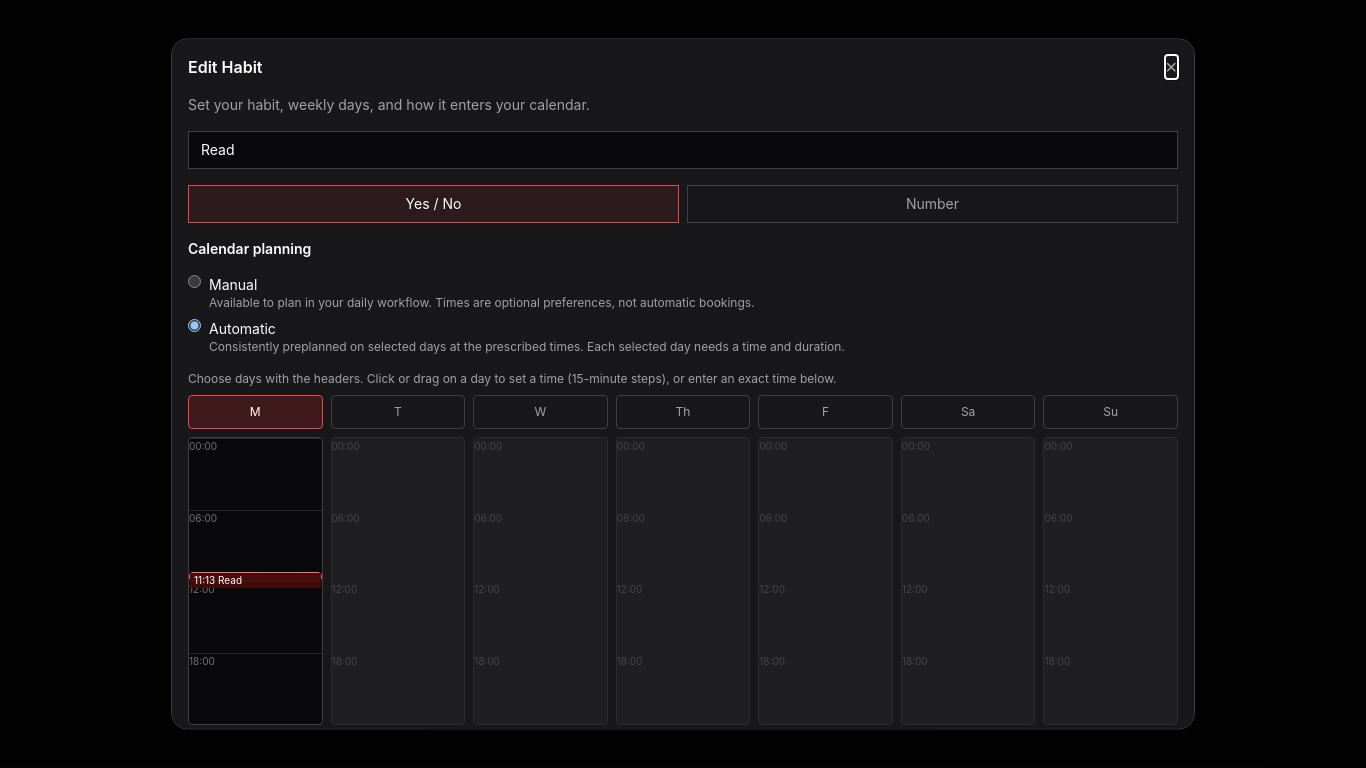
it: Habit editor weekly calendar › preserves chosen times and duration when deselecting and reselecting a day
This screenshot has width=1366, height=768.
Click the button named "Monday" at {"x": 255, "y": 412}, box top-left (188, 395), bottom-right (323, 429)
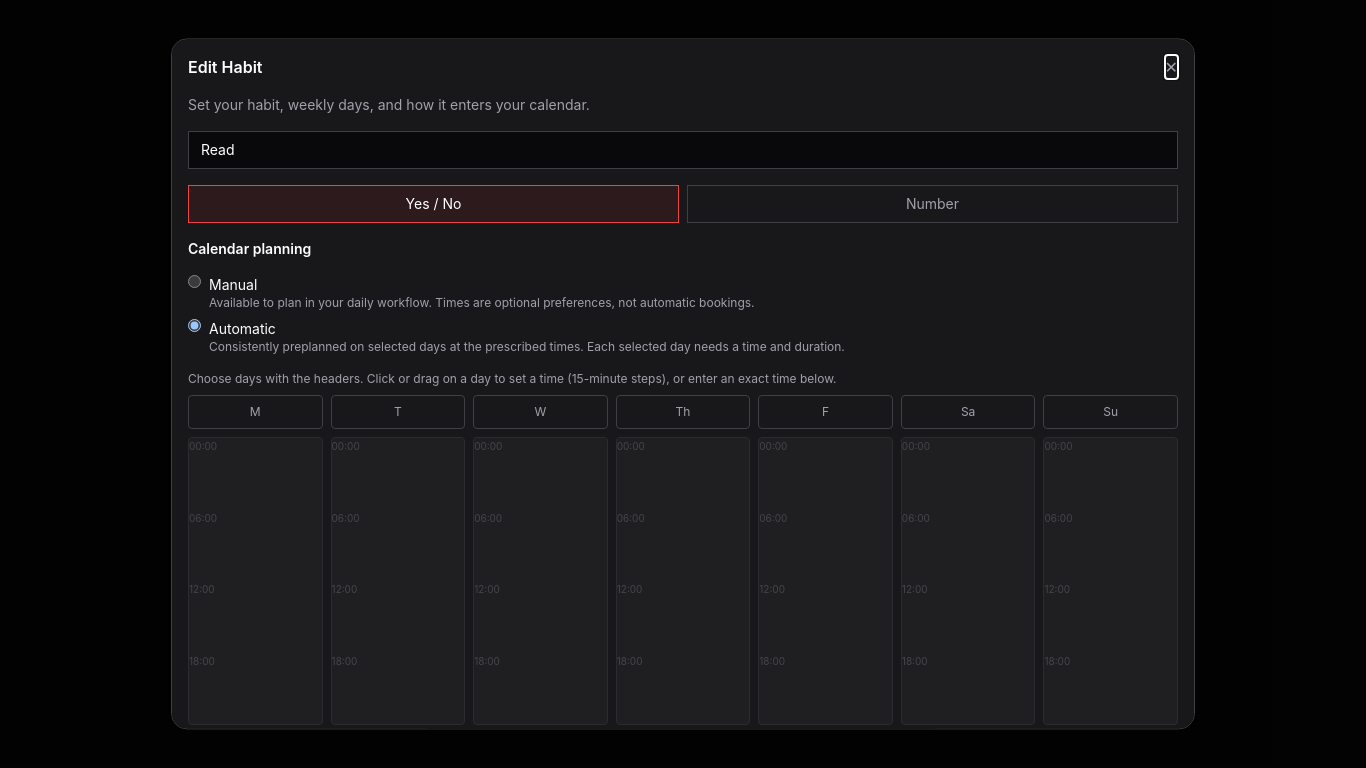
Click the button "M" at {"x": 255, "y": 412}, box top-left (188, 395), bottom-right (323, 429)
(page scrolled)
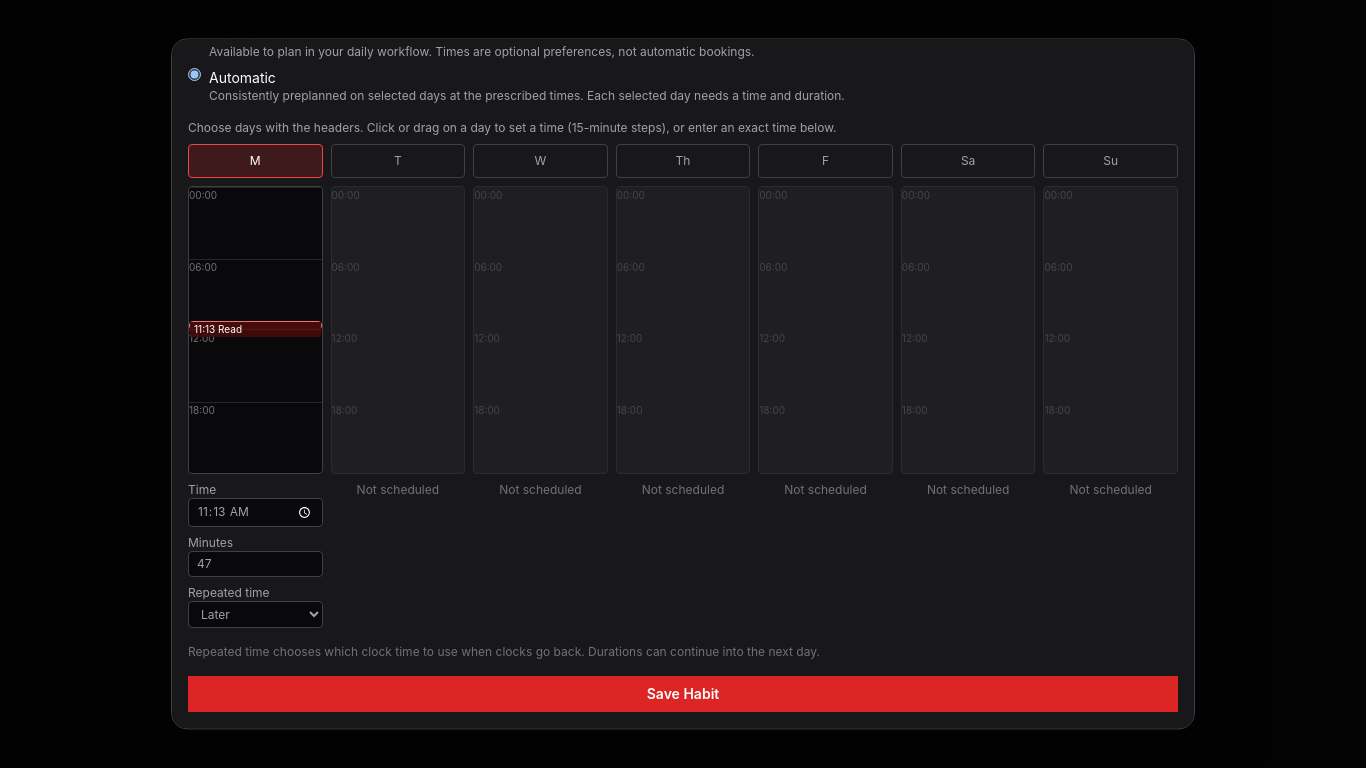
Expected: the time field named "Monday exact time" holds "11:13", top-left (188, 498), bottom-right (323, 527)
Expected: the number field named "Monday duration minutes" holds "47", top-left (188, 551), bottom-right (323, 577)
Expected: the dropdown named "Monday repeated time occurrence" shows "Later", top-left (188, 601), bottom-right (323, 628)
